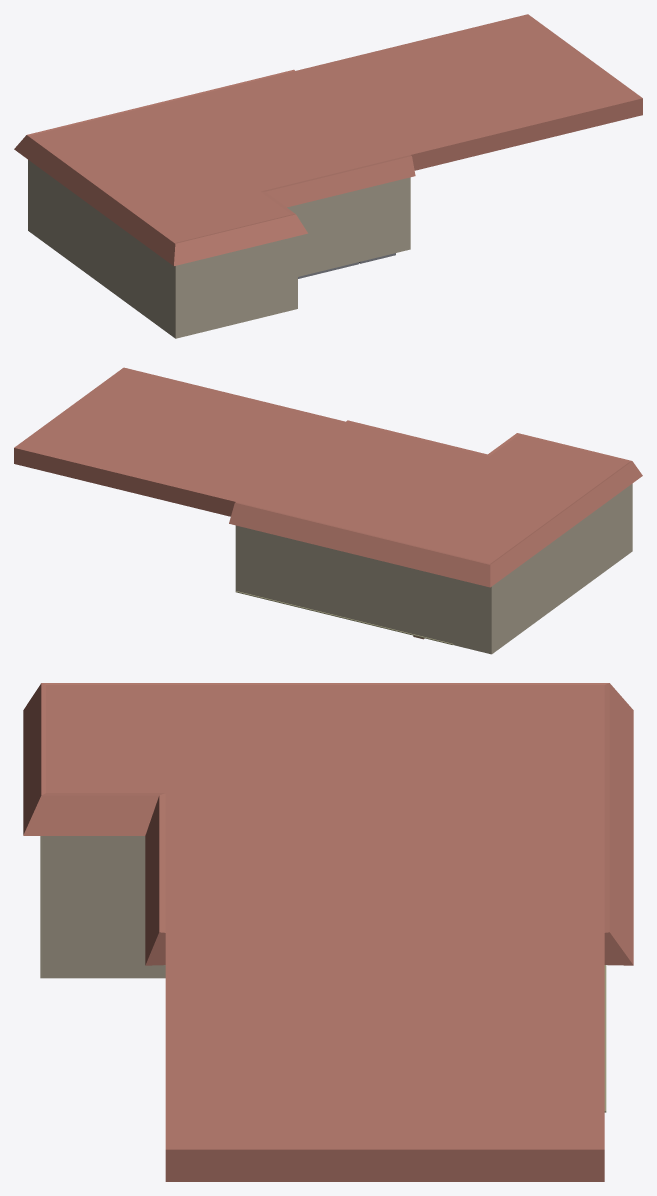
The model's file is Gas_Station_WTex.fbx.
The picture shows the model from 3 angles, top to bottom: view 1: azimuth 30°, elevation 25°; view 2: azimuth 150°, elevation 25°; view 3: azimuth 270°, elevation 25°; orthographic projection. The views are drawn at different scales.
Parts seen in each view (by area): view 1: Roof, Walls; view 2: Roof, Walls, Gas_Floor; view 3: Roof, Walls.
Part boxes in pixels (x1=…): Roof: x1=14, y1=14, x2=642, y2=265; Walls: x1=28, y1=160, x2=410, y2=338; Roof: x1=14, y1=367, x2=642, y2=587; Walls: x1=235, y1=483, x2=632, y2=654; Gas_Floor: x1=235, y1=591, x2=453, y2=644; Roof: x1=23, y1=683, x2=633, y2=1181; Walls: x1=40, y1=836, x2=165, y2=978.
Size of the model in its own units: 349 by 64.33 by 191.
